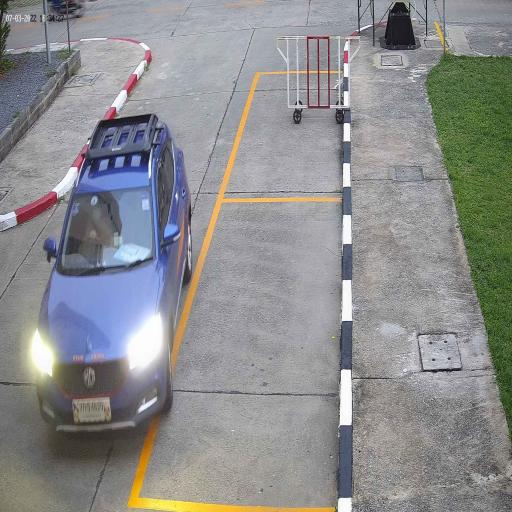car: (32, 118, 194, 436)
